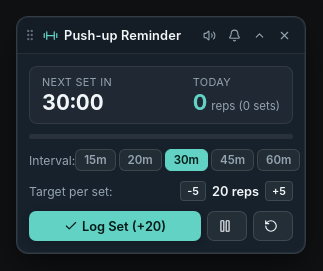
Test: Desktop Float Widgets › PushupReminderWidget Component › adjusts interval setting when clicking interval pill
Click the button "15m" at (95, 160), box x1=75 y1=149 x2=116 y2=171
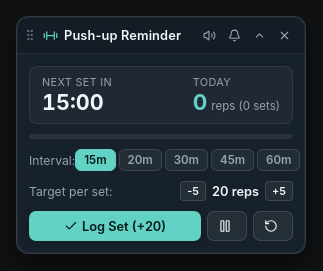
Check: the text "15:00" is shown, box x1=42 y1=89 x2=112 y2=115
